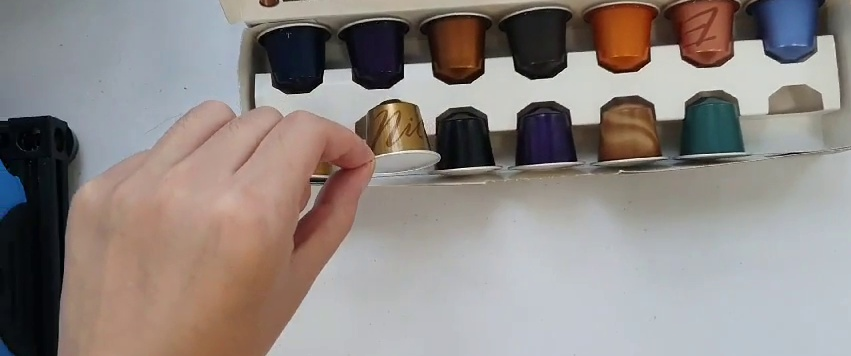capsule_9: (354, 97, 445, 176)
